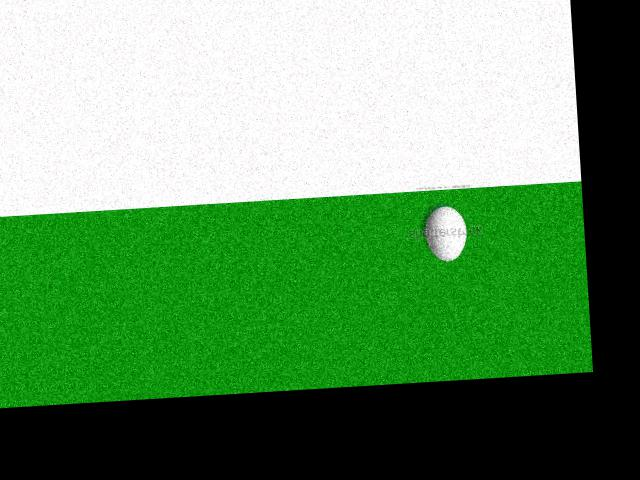egg: (424, 205, 468, 262)
